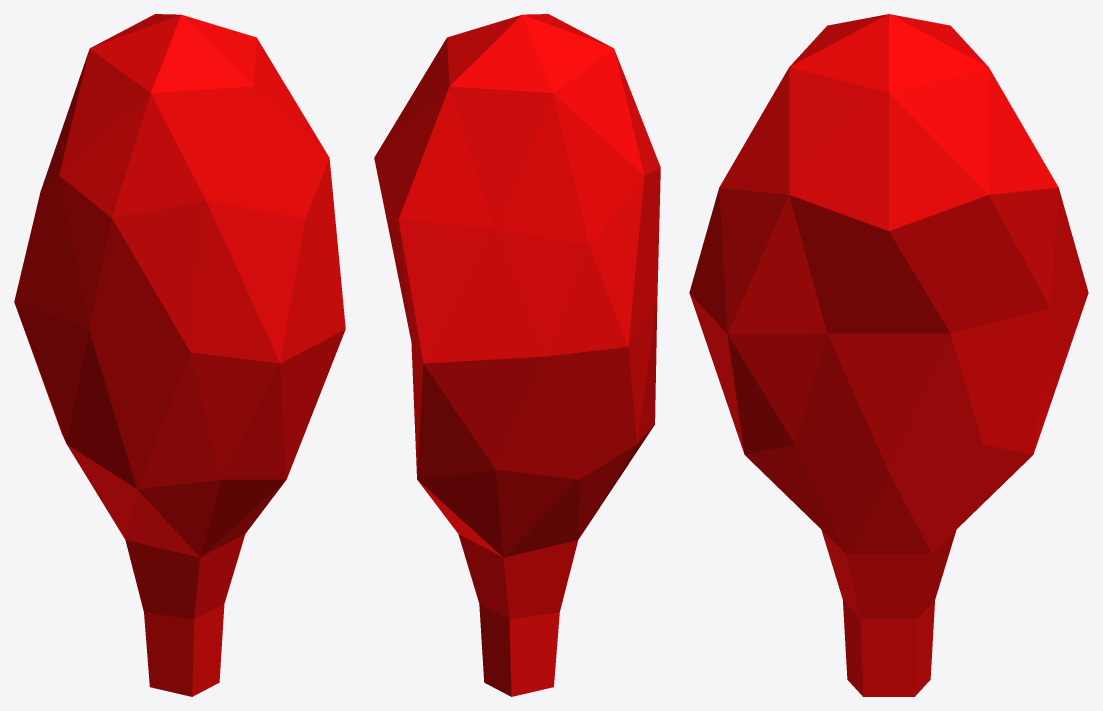
File: item_balloon.glb
3 views of the same model, side by side, from view 1: azimuth 30°, elevation 25°; view 2: azimuth 150°, elevation 25°; view 3: azimuth 270°, elevation 25° (orthographic).
Visible parts, largest first — view 1: BalloonDeflated; view 2: BalloonDeflated; view 3: BalloonDeflated.
Part boxes in pixels (box(x1,y1,x2,y2)): BalloonDeflated: box(14, 14, 345, 696); BalloonDeflated: box(374, 14, 660, 696); BalloonDeflated: box(689, 14, 1088, 696).
Bounding box in the file's own units: 0.0305 × 0.0733 × 0.0395.
